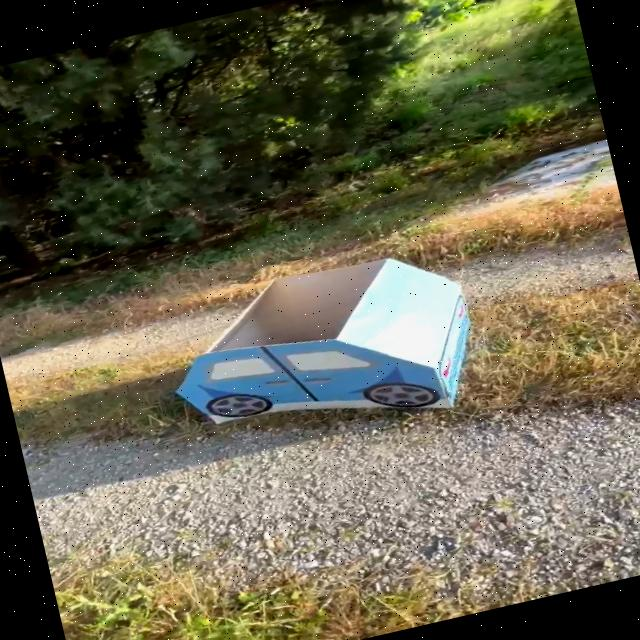blue_car: (117, 218, 533, 489)
